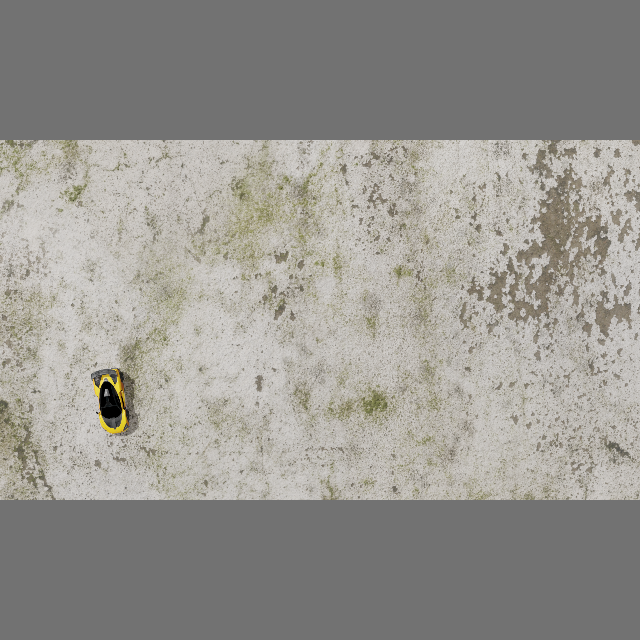car: (87, 365, 133, 438)
